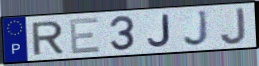3: (108, 14, 137, 53)
E: (68, 16, 102, 56)
J: (182, 9, 212, 48), (219, 6, 248, 46), (146, 13, 173, 49)
R: (30, 20, 66, 57)
